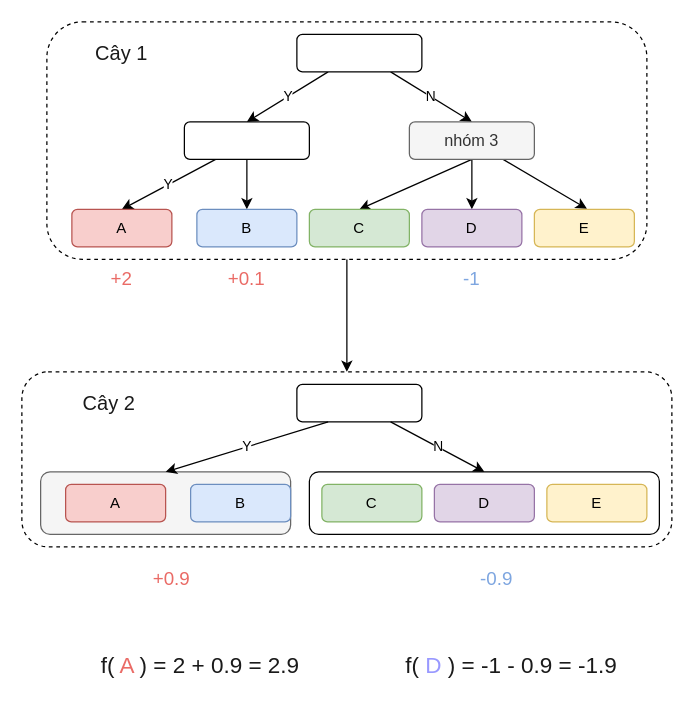
The diagram is 694 pixels wide and 719 high, and some of its shapes have lost their labels. The centre of each missing label's shape, as x and y in pixels:
nhóm 1?: point 246,140
Đặc trưng 1 < 40: point 359,52
đặc trưng 2 < 30: point 359,402
